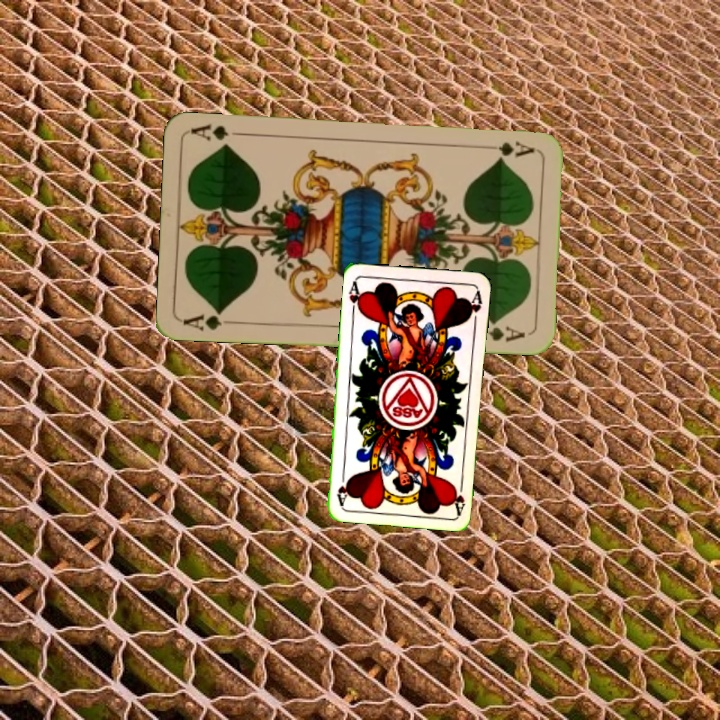GA: (180, 306, 240, 333), (478, 137, 537, 160)
HA: (345, 277, 365, 317), (449, 475, 468, 515)
